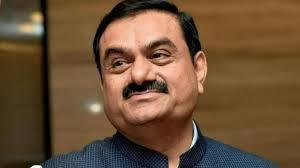Persons: (81, 0, 211, 149)
